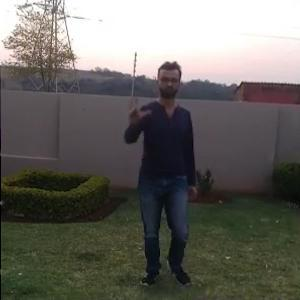land_hand: (127, 93, 155, 130)
